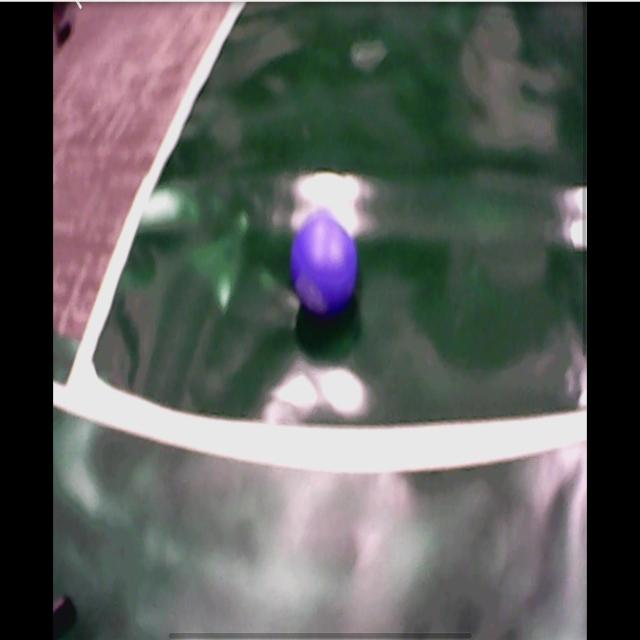ball: (290, 217, 356, 314)
